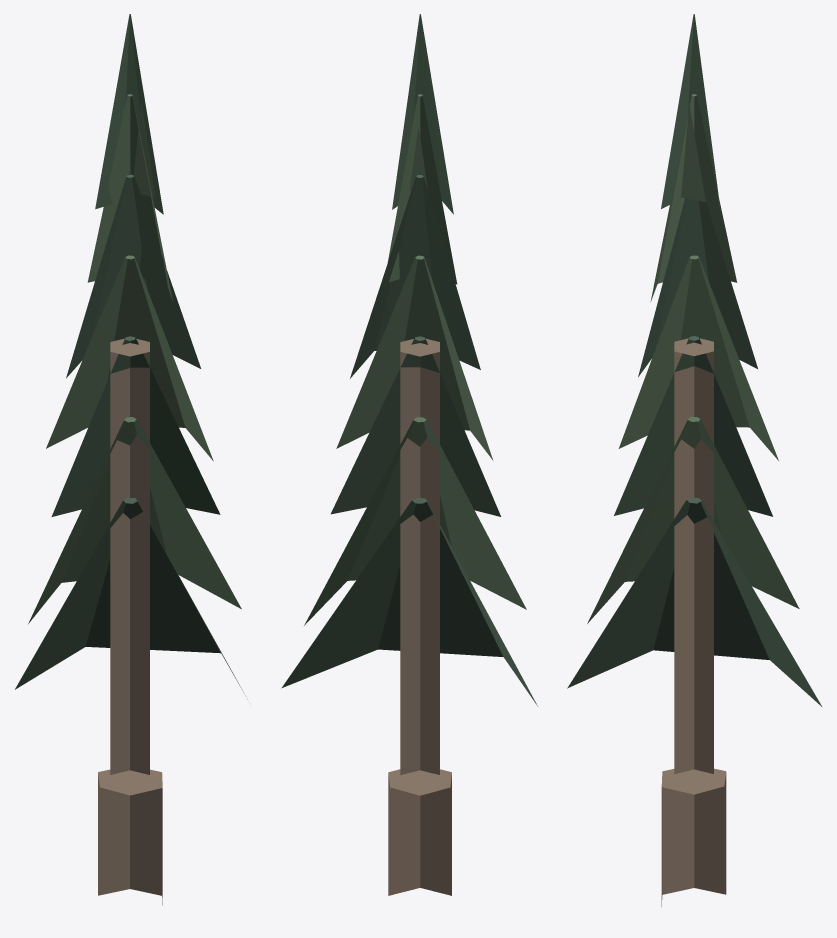
The model's file is shu.yunshan__summer.glb.
3 views of the same model, side by side, from view 1: azimuth 30°, elevation 25°; view 2: azimuth 150°, elevation 25°; view 3: azimuth 270°, elevation 25° (orthographic).
Parts seen in each view (by area): view 1: shu.yunshan__summer; view 2: shu.yunshan__summer; view 3: shu.yunshan__summer.
Boxes of the visible parts, x1=… form: shu.yunshan__summer: x1=15, y1=14, x2=247, y2=905; shu.yunshan__summer: x1=281, y1=14, x2=537, y2=895; shu.yunshan__summer: x1=567, y1=14, x2=821, y2=906.
Size of the model in its own units: 4.5 by 17.97 by 4.69.
